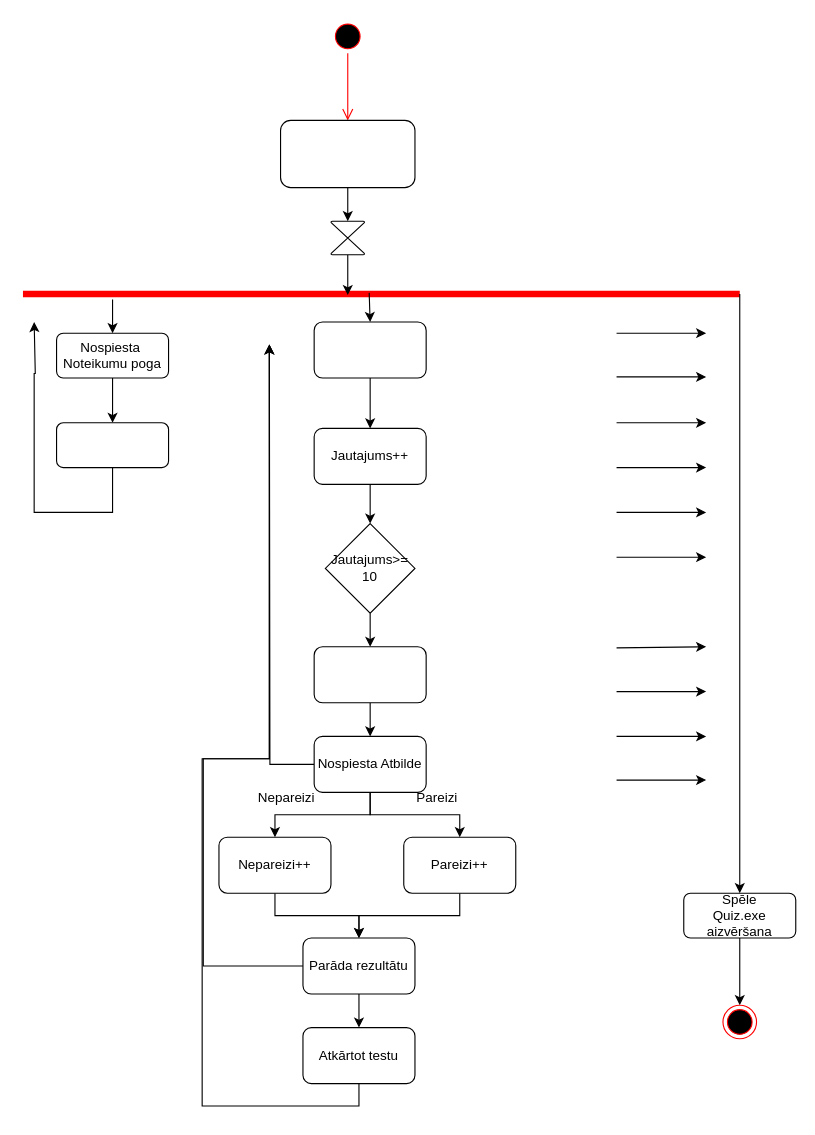
This 815x1135 diagram has some shape labels left out. The centre of each missing label's shape, as x and y in pixels:
"Izprintē jautājumu ar 4 atbilžu variantiem" belongs at (x=369, y=674).
"Izvada noteikumu srakstu" belongs at (x=112, y=445).
"Nospiesta Play poga" belongs at (x=369, y=349).
"Spēle Quiz.exe startēšana" belongs at (x=347, y=153).
